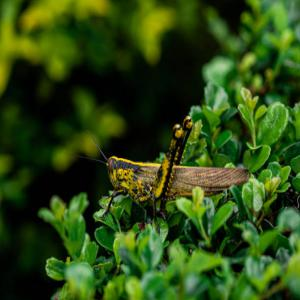locust: (85, 104, 272, 209)
